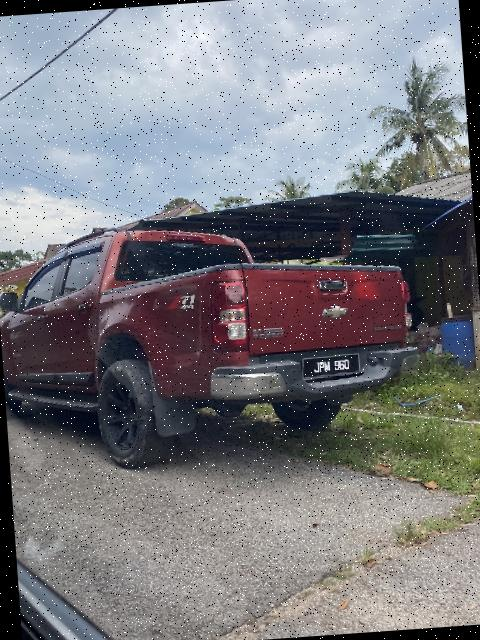License_Plate: (298, 353, 364, 386)
car: (1, 201, 430, 479)
